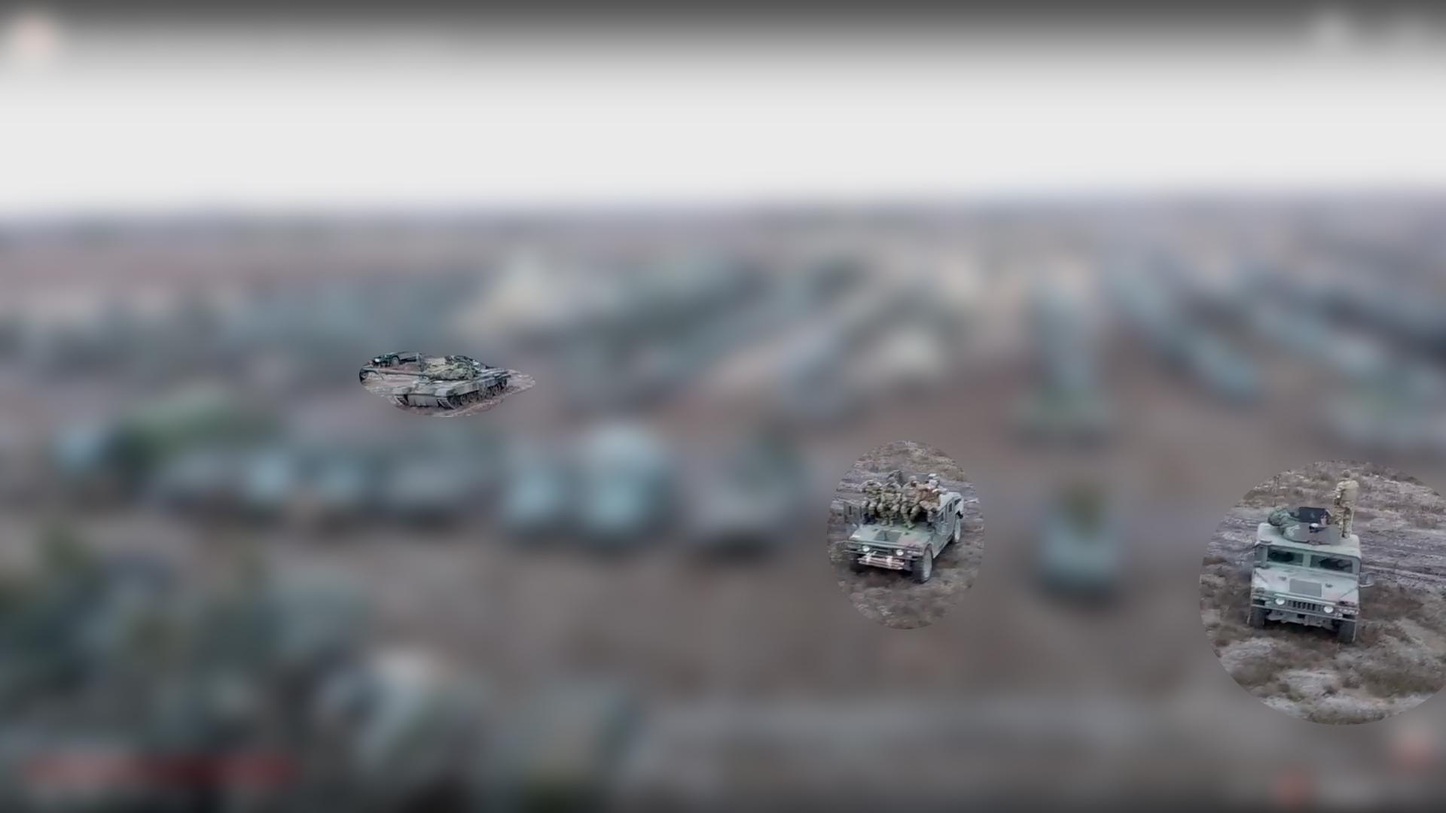armored_car: (1245, 507, 1366, 652), (845, 477, 967, 588)
tank: (360, 353, 512, 410)
